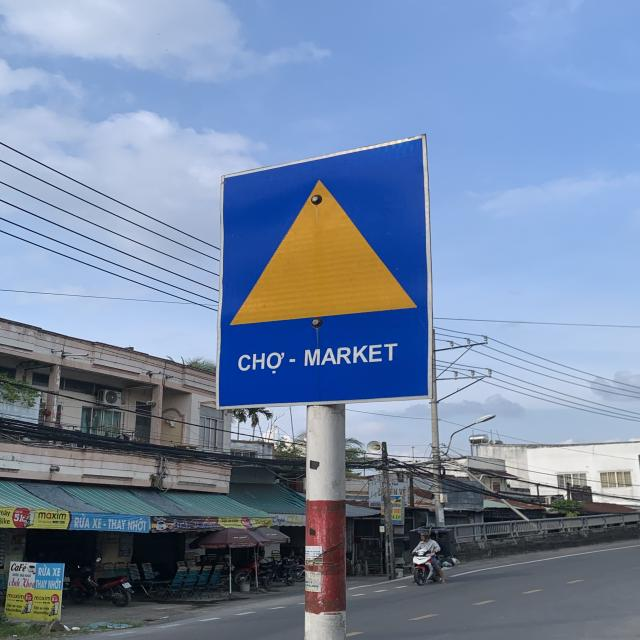Cho_Quay_Xe: (223, 134, 428, 404)
